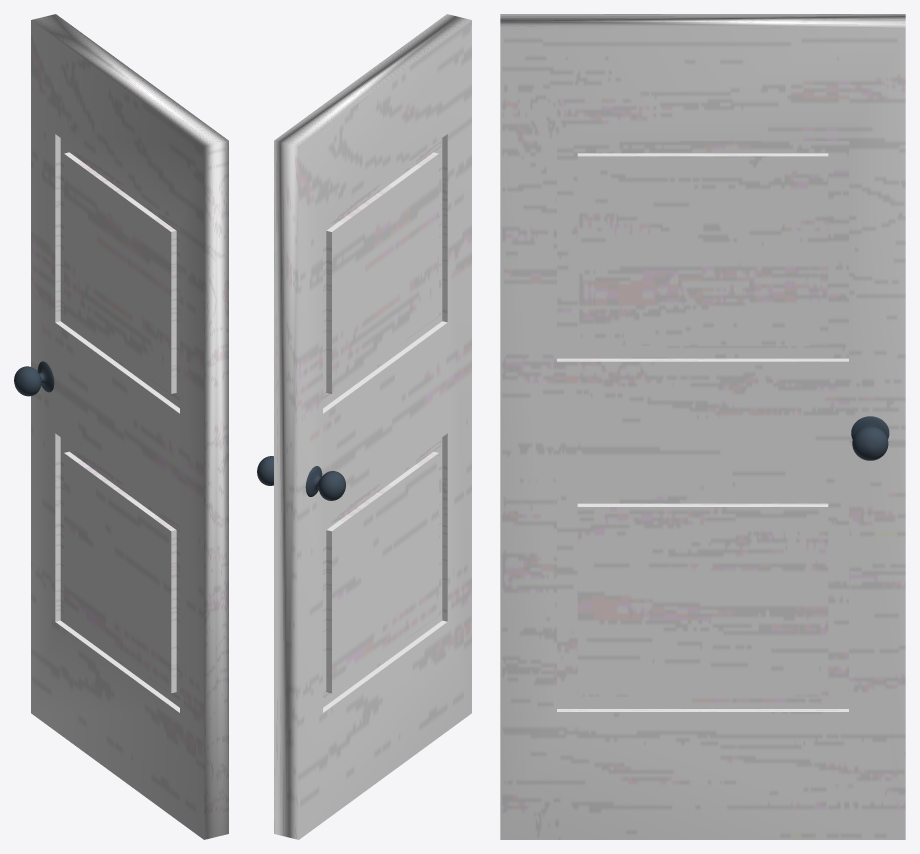
File: puerta.fbx
The picture shows the model from 3 angles, left to right: view 1: azimuth 30°, elevation 25°; view 2: azimuth 150°, elevation 25°; view 3: azimuth 270°, elevation 25°; orthographic projection. The views are drawn at different scales.
Parts seen in each view (by area): view 1: Puerta, Pomo; view 2: Puerta, Pomo; view 3: Puerta, Pomo.
Boxes of the visible parts, x1,y1,x2,y2 form: Puerta: (31,14,228,839); Pomo: (14,361,54,396); Puerta: (274,14,471,839); Pomo: (257,456,345,500); Puerta: (500,14,905,839); Pomo: (851,416,889,460).
Bounding box in the file's own units: 56.81 × 442 × 200.
